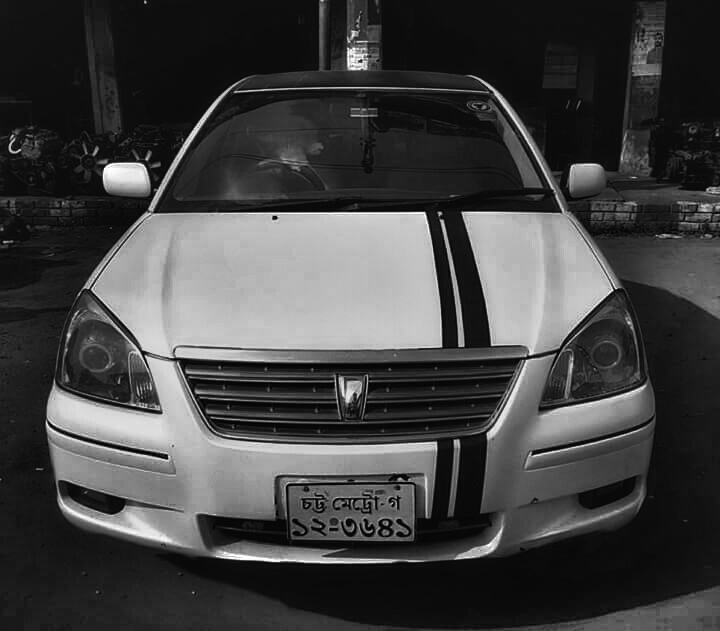registration_plate: (287, 484, 414, 542)
